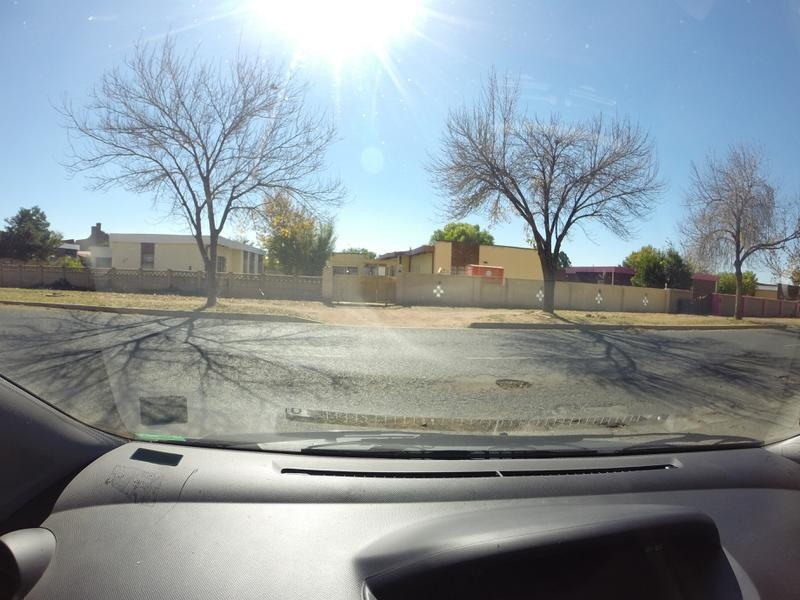pothole: (491, 378, 533, 394), (774, 369, 789, 383)
